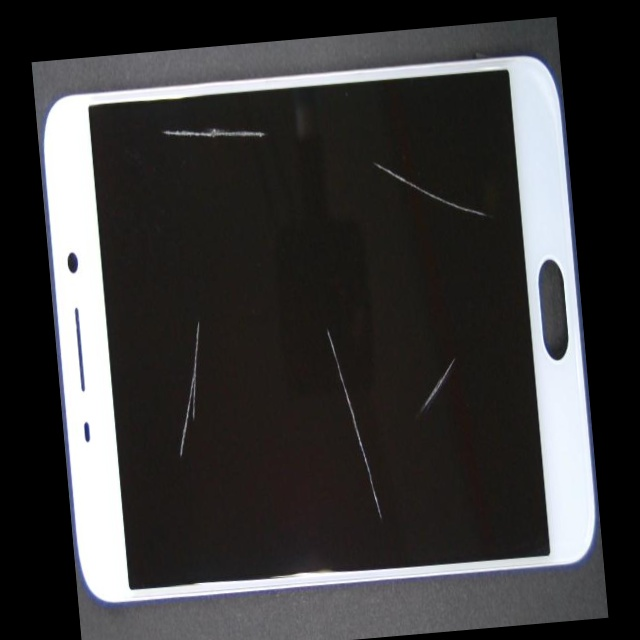scratch: (165, 95, 481, 525), (118, 99, 257, 525), (203, 85, 335, 159)
